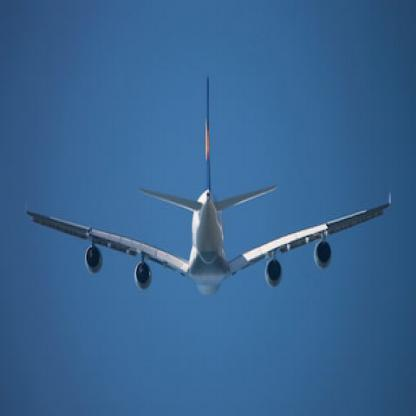CIV_Plane: (19, 72, 393, 305)
